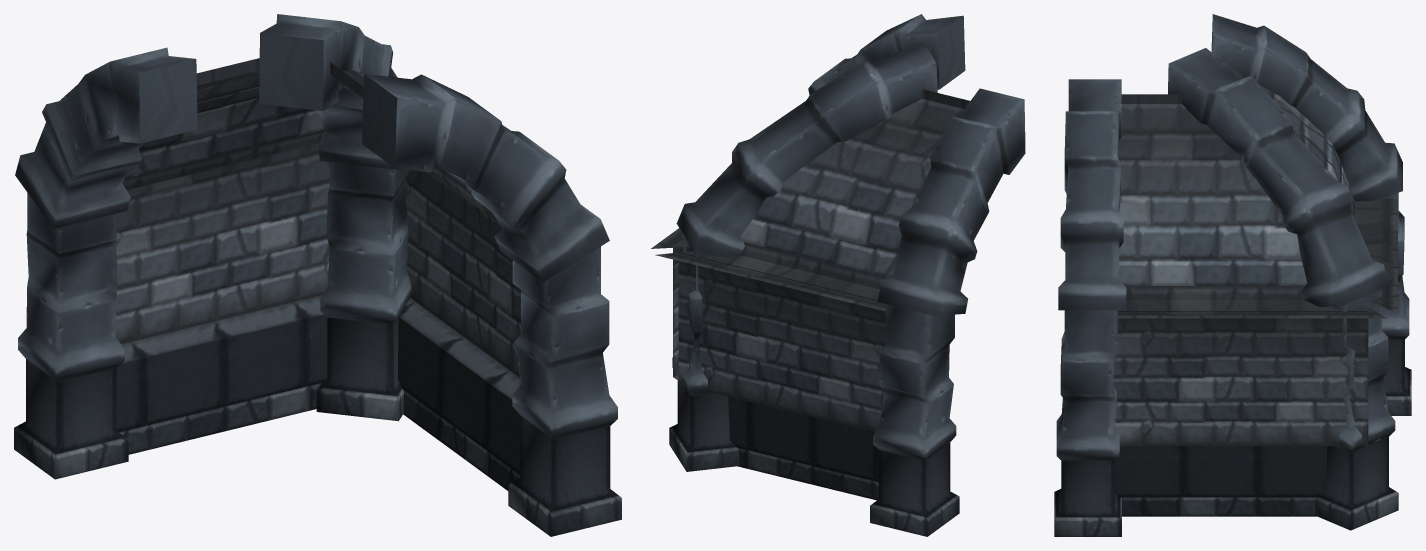
File: wall dungeon-corner2.FBX
3 views of the same model, side by side, from view 1: azimuth 30°, elevation 25°; view 2: azimuth 150°, elevation 25°; view 3: azimuth 270°, elevation 25° (orthographic). The views are drawn at different scales.
Parts seen in each view (by area): view 1: wall dungeon-corner2; view 2: wall dungeon-corner2; view 3: wall dungeon-corner2.
Boxes of the visible parts, bbox=[...] form: wall dungeon-corner2: bbox=[14, 14, 621, 536]; wall dungeon-corner2: bbox=[651, 14, 1025, 536]; wall dungeon-corner2: bbox=[1054, 14, 1411, 536].
Size of the model in its own units: 602 by 716 by 601.
